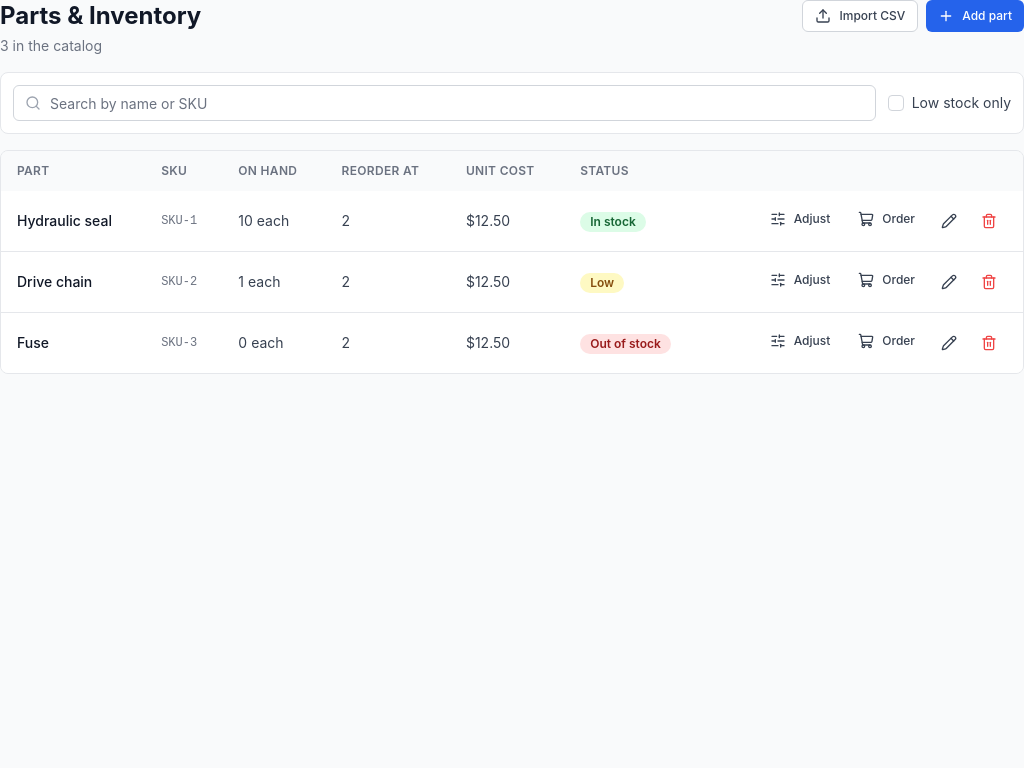
Scenario: PartsPage › needs a name, and a cost that is not negative
This screenshot has width=1024, height=768.
Check: the text "Hydraulic seal" is shown, box [1,191,145,252]
Click the button "Add part": (975, 16) [926,0,1023,32]
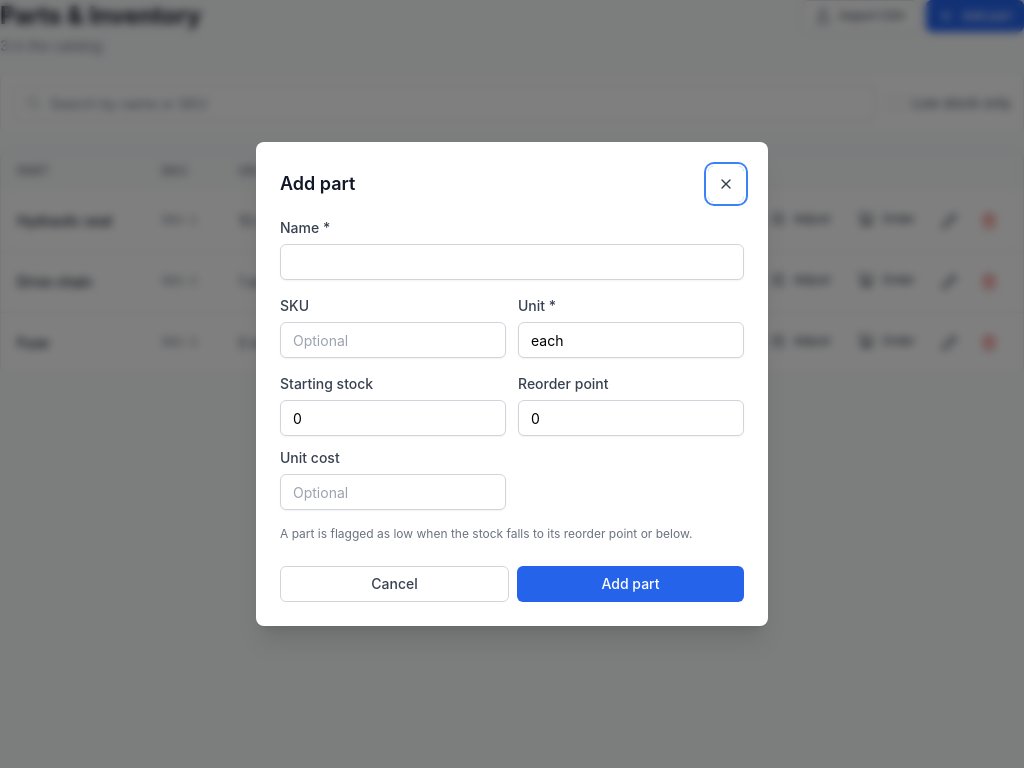
In the number field labelled "Unit cost": (393, 492) [280,474,506,510], type "-3"
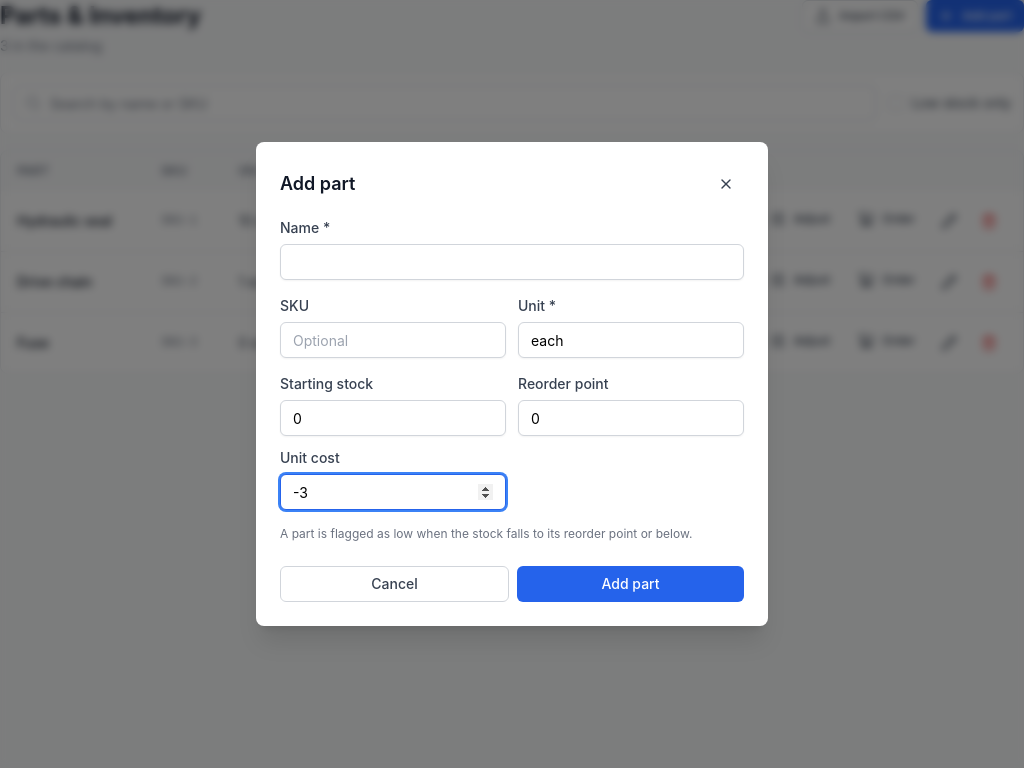
Click the button "Add part": (630, 584) [517,566,744,602]
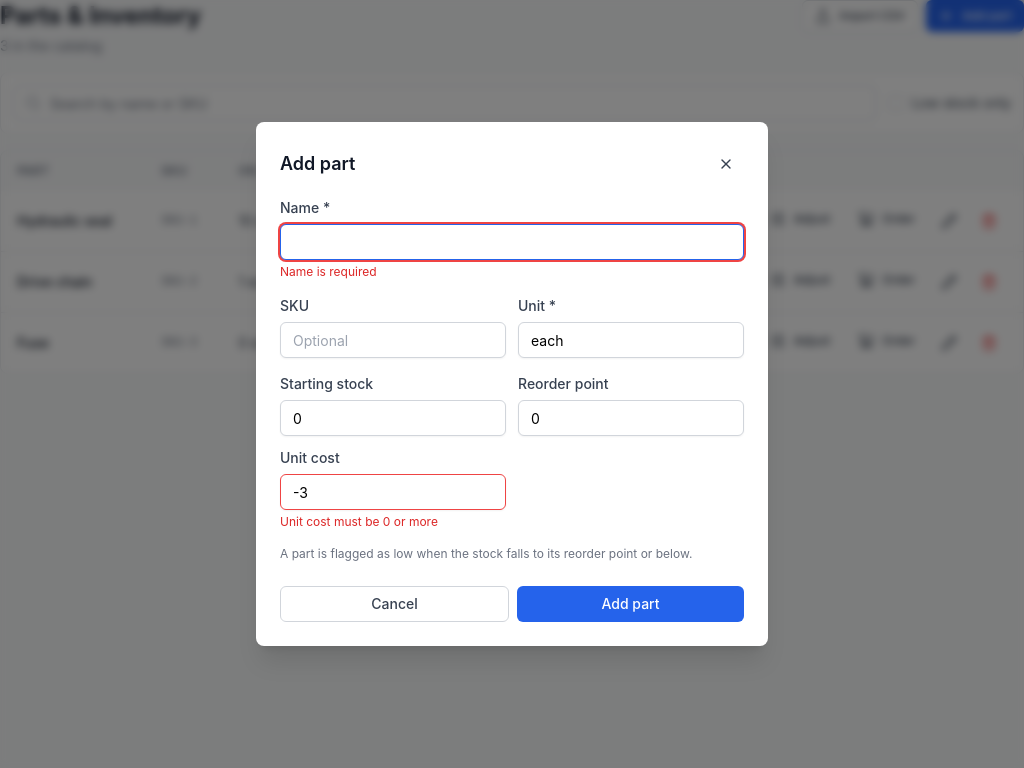
Check: the text "Name is required" is shown, box [280,264,377,279]
Check: the text "Unit cost must be 0 or more" is shown, box [280,514,438,529]
